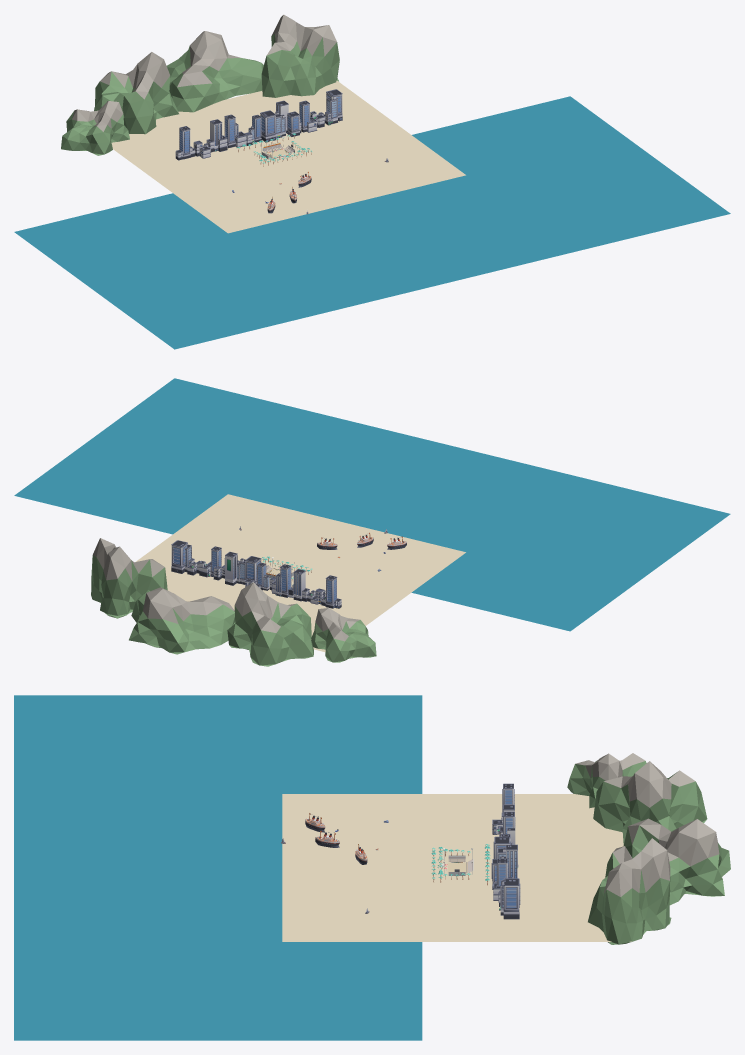
Rendered from copacabana.glb.
3 views of the same model, one above another, from view 1: azimuth 30°, elevation 25°; view 2: azimuth 150°, elevation 25°; view 3: azimuth 270°, elevation 25° (orthographic). The views are drawn at different scales.
Visible parts, largest first — view 1: WATER, BEACH_SAND, MOUNTAIN.001, MOUNTAIN.002, MOUNTAIN, MOUNTAIN.003; view 2: WATER, BEACH_SAND, MOUNTAIN.001, MOUNTAIN, MOUNTAIN.002, MOUNTAIN.003, bldg.032; view 3: WATER, BEACH_SAND, MOUNTAIN.002, MOUNTAIN, MOUNTAIN.001, MOUNTAIN.003, bldg.032.
Part boxes in pixels (x1,y1,x2,y2): WATER: [14, 96, 730, 349]; BEACH_SAND: [111, 80, 465, 233]; MOUNTAIN.001: [166, 31, 263, 112]; MOUNTAIN.002: [261, 14, 339, 97]; MOUNTAIN: [94, 52, 178, 134]; MOUNTAIN.003: [61, 101, 129, 155]; WATER: [14, 378, 730, 631]; BEACH_SAND: [136, 494, 465, 652]; MOUNTAIN.001: [129, 587, 235, 654]; MOUNTAIN: [227, 582, 313, 666]; MOUNTAIN.002: [91, 538, 167, 618]; MOUNTAIN.003: [311, 608, 376, 662]; bldg.032: [171, 540, 187, 573]; WATER: [14, 695, 422, 1040]; BEACH_SAND: [282, 794, 631, 941]; MOUNTAIN.002: [588, 838, 671, 944]; MOUNTAIN: [593, 761, 707, 844]; MOUNTAIN.001: [623, 818, 730, 905]; MOUNTAIN.003: [567, 753, 646, 808]; bldg.032: [502, 878, 520, 919].
Bounding box in the file's own units: 1400 × 161 × 1230.
56 materials, 26 textured.
